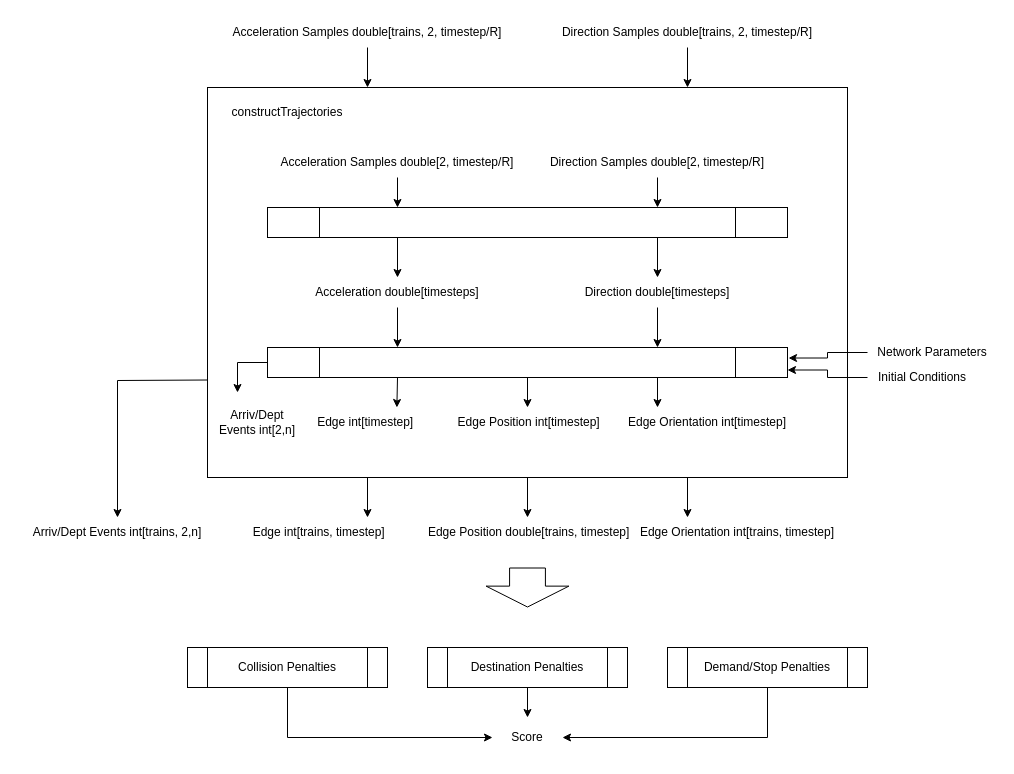
This 1014x774 diagram has some shape labels left out. Here are the shapes that lost their labels. From the top down, the centre of each, then its label:
At pixel 527 222: "Interpolate Decision Variables".
At pixel 527 362: "constructTrajectory".
